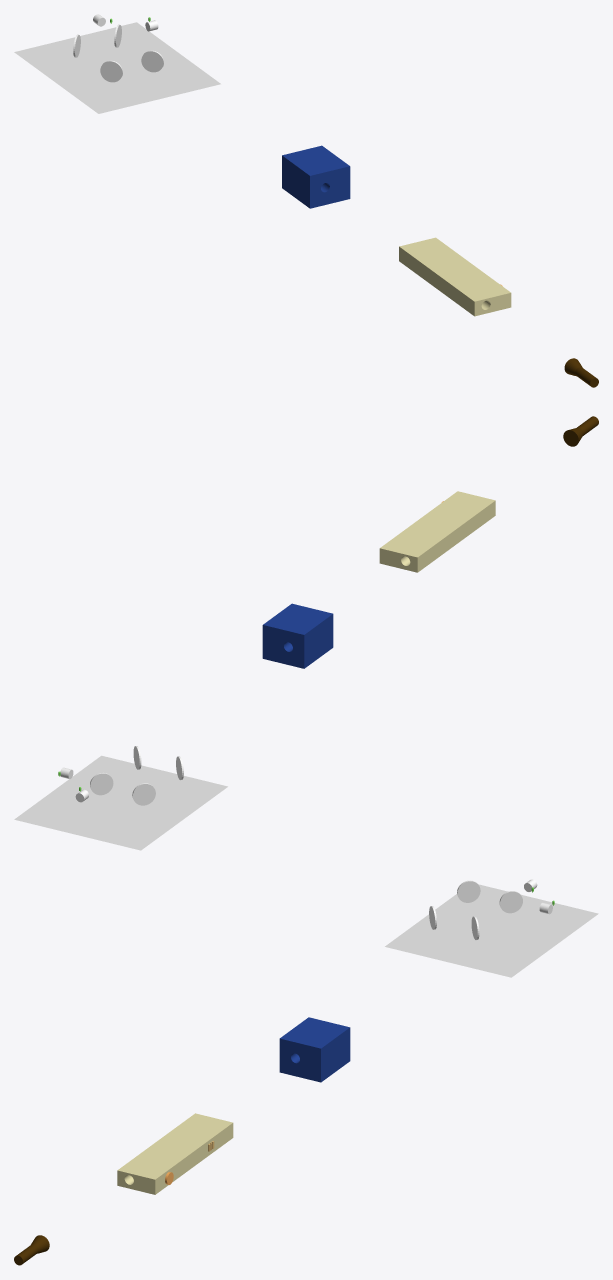
3 renders of one model, top to bottom at view 1: azimuth 30°, elevation 25°; view 2: azimuth 150°, elevation 25°; view 3: azimuth 330°, elevation 25°, orthographic. The views are drawn at different scales.
Parts seen in each view (by area): view 1: mziFloor, Cylinder_1, attenutor; view 2: mziFloor, Cylinder_1, attenutor; view 3: mziFloor, Cylinder_1, attenutor, photonSrc.
Part boxes in pixels (<box>): mziFloor: <box>14,22,220,113</box>; Cylinder_1: <box>399,237,511,316</box>; attenutor: <box>282,145,350,208</box>; mziFloor: <box>14,755,227,850</box>; Cylinder_1: <box>379,491,495,572</box>; attenutor: <box>262,603,333,668</box>; mziFloor: <box>385,884,598,977</box>; Cylinder_1: <box>117,1113,233,1194</box>; attenutor: <box>279,1017,350,1082</box>; photonSrc: <box>14,1235,49,1265</box>.
Size of the model in its own units: 4.9 by 1.5 by 35.25.
